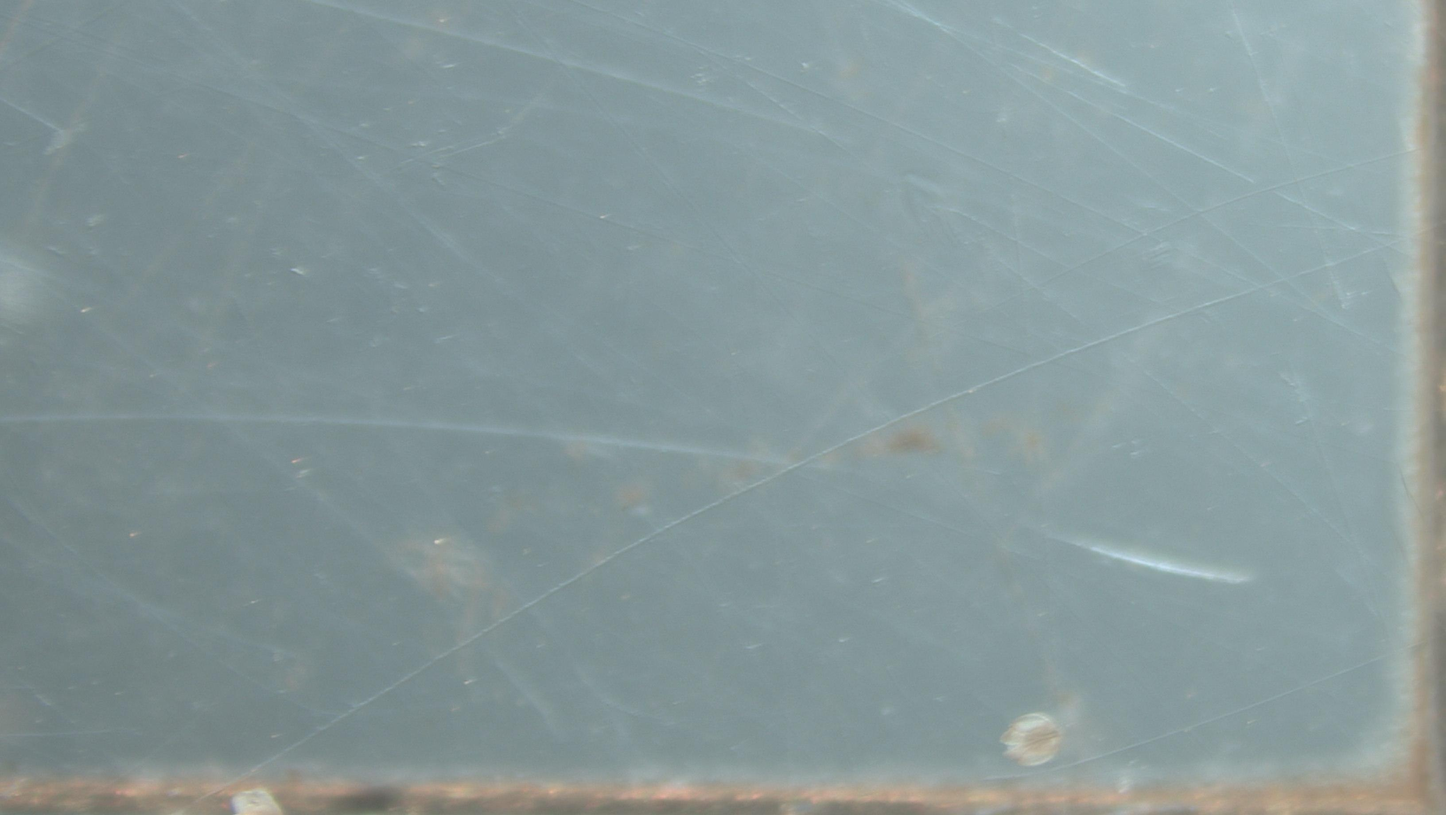dead: (231, 788, 284, 815)
live: (1000, 713, 1063, 766)
